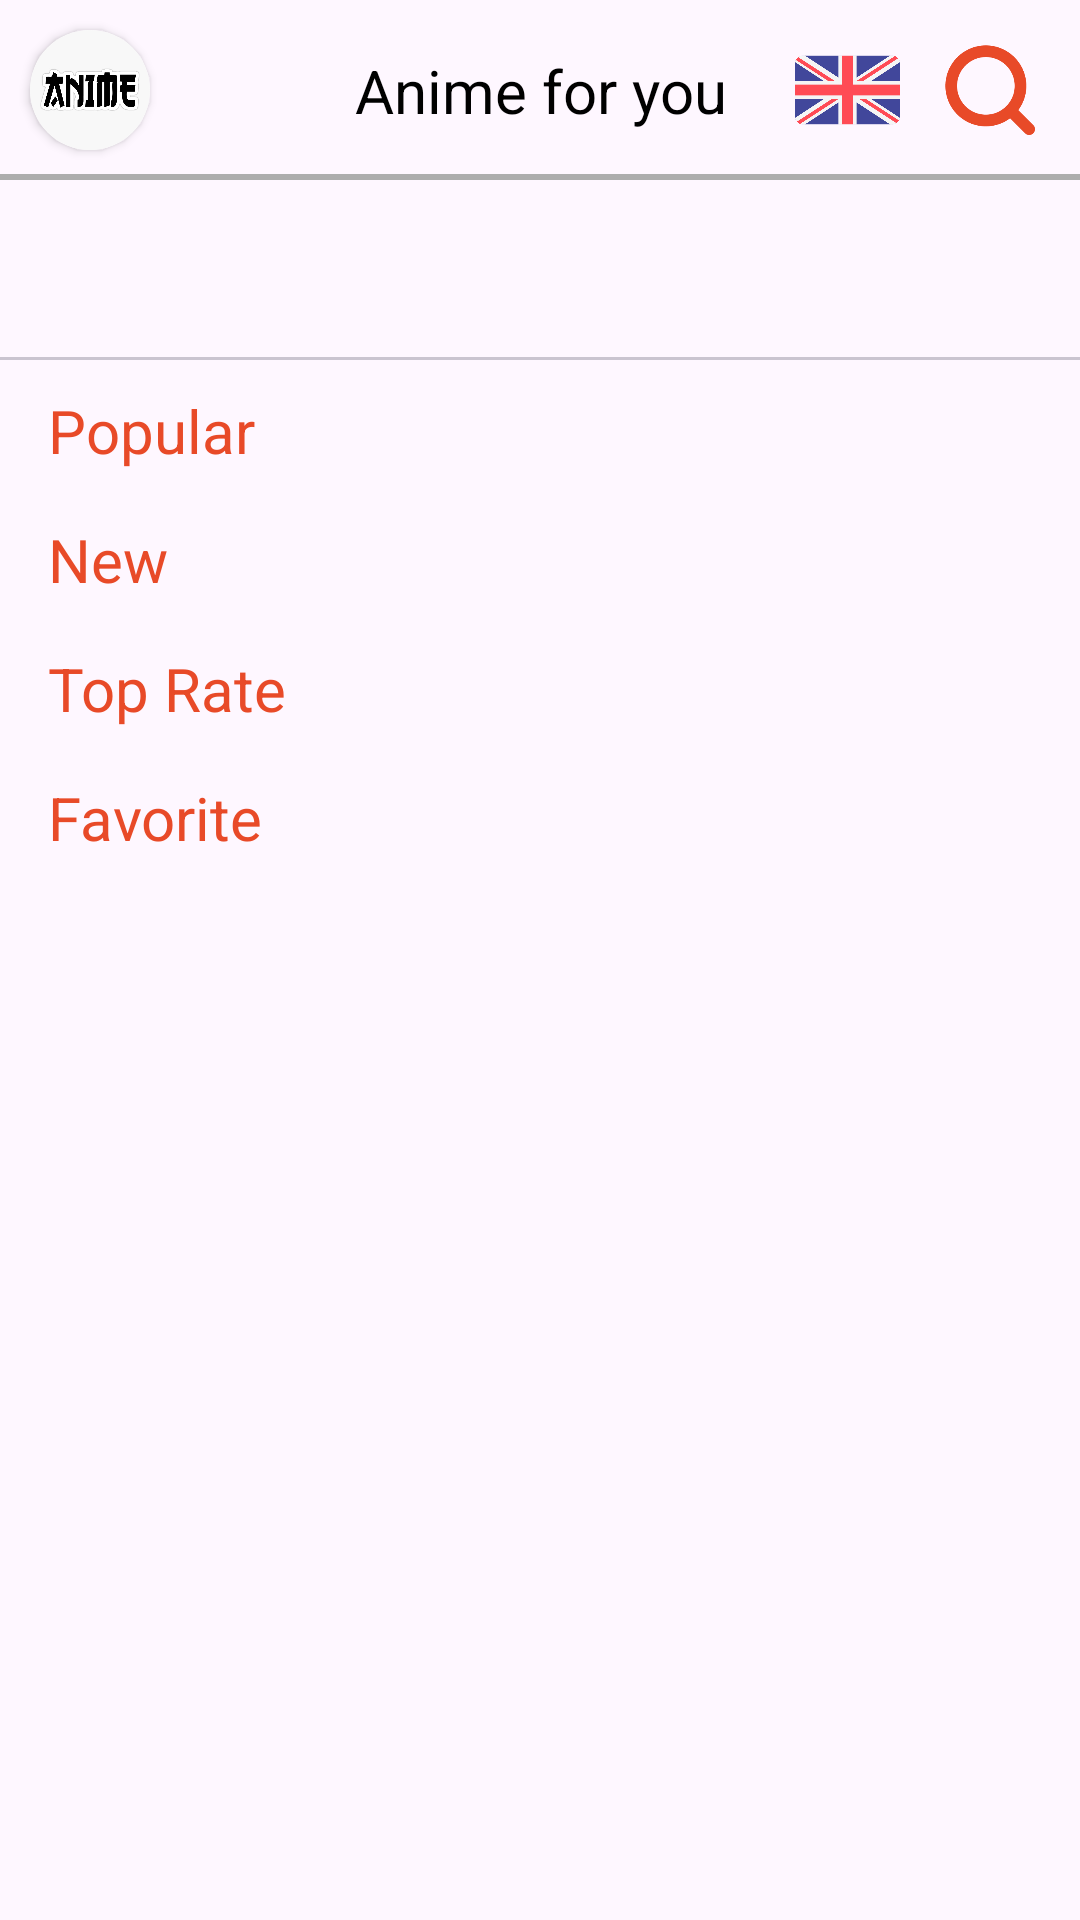

Named icons in this screenshot (1080×1920) and their centers, [x,y]:
Flag: [847,90]
Search: [990,90]
